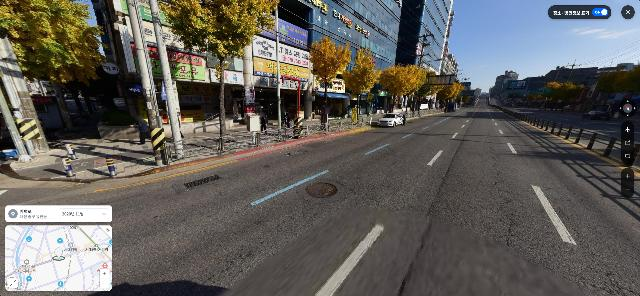ginkgo: (154, 0, 281, 141), (0, 0, 103, 88), (307, 37, 352, 131), (342, 48, 382, 116), (376, 63, 427, 112), (416, 75, 442, 109), (436, 79, 464, 110)
other: (593, 67, 639, 110), (546, 79, 585, 113), (416, 75, 442, 109)
